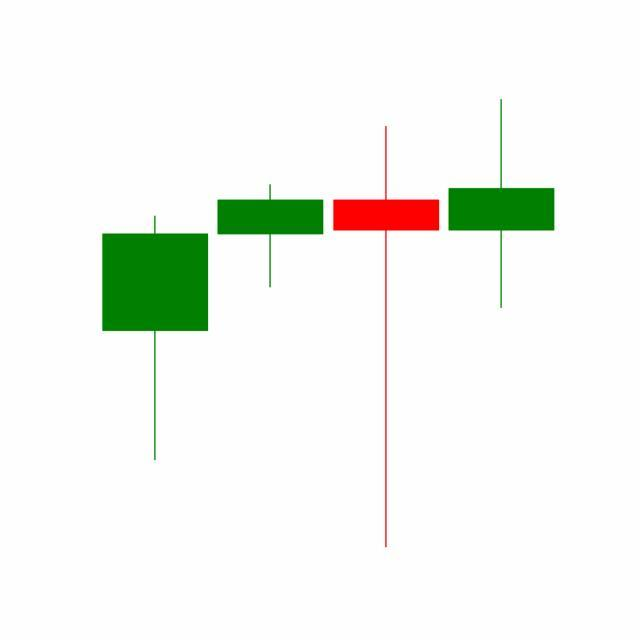Spinning Top: (444, 97, 560, 311)
